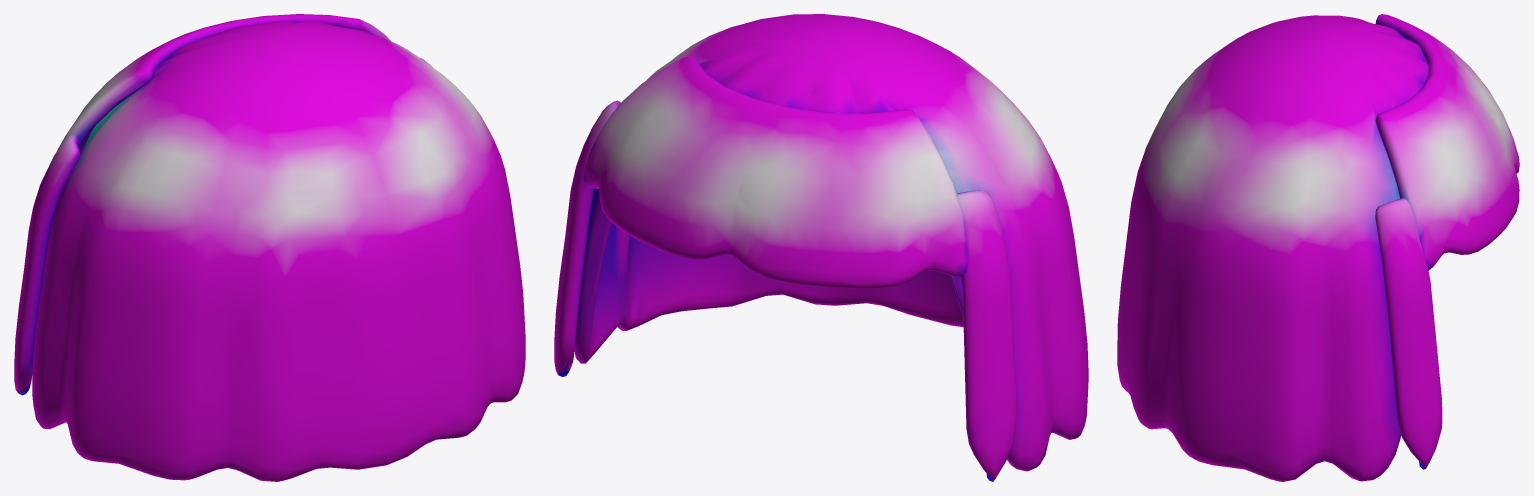
File: bob.glb
3 renders of one model, left to right at view 1: azimuth 30°, elevation 25°; view 2: azimuth 150°, elevation 25°; view 3: azimuth 270°, elevation 25°, orthographic. The views are drawn at different scales.
Visible parts, largest first — view 1: bob; view 2: bob; view 3: bob.
Boxes of the visible parts, <box> form: bob: <box>14,14,525,481</box>; bob: <box>554,14,1088,481</box>; bob: <box>1117,14,1519,481</box>.
Bounding box in the file's own units: 0.911 × 0.6897 × 0.7357.
